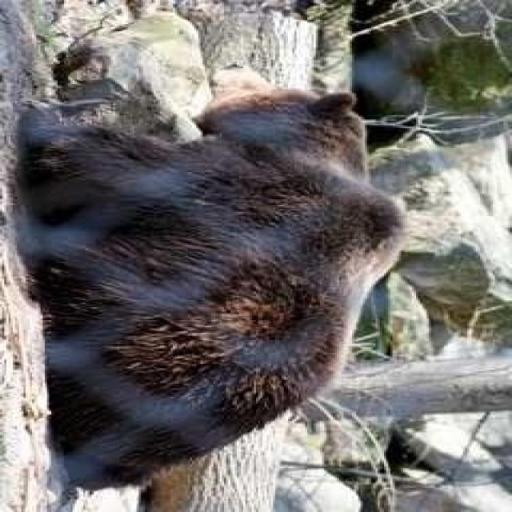Bear: (12, 87, 408, 491)
